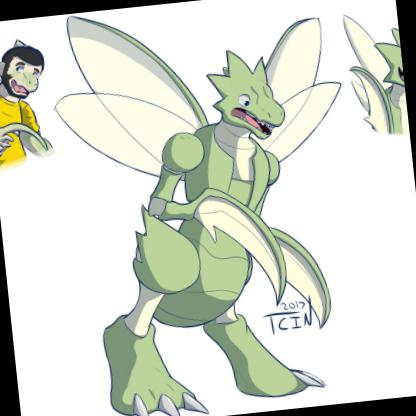Scyther: (12, 1, 416, 416)
